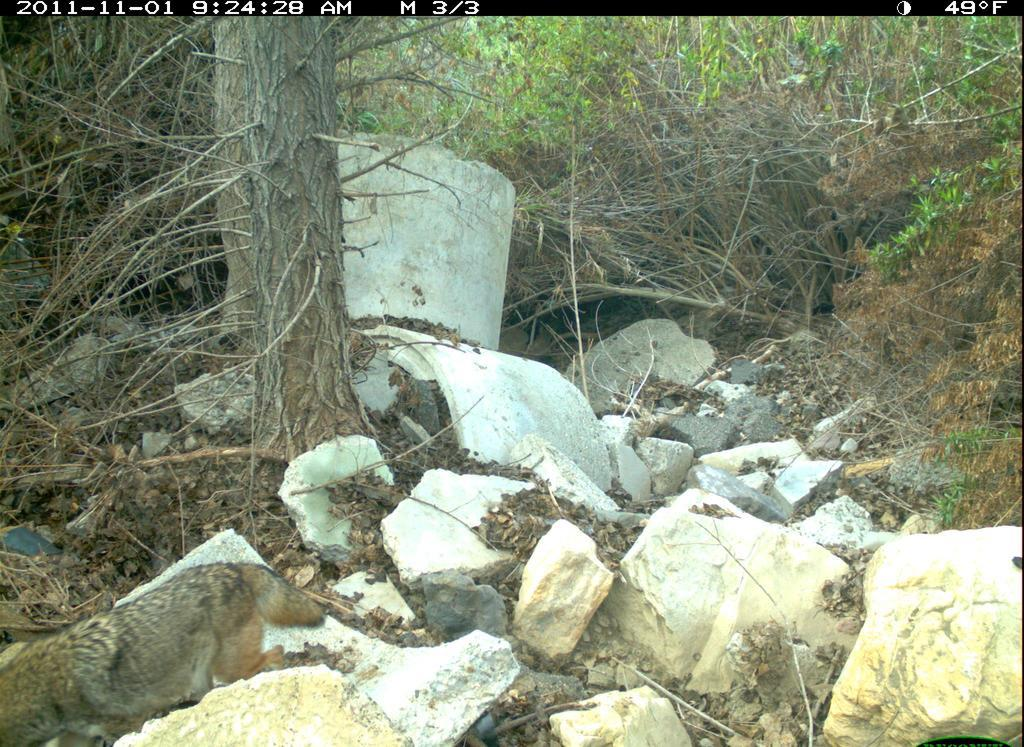coyote: (1, 549, 329, 747)
